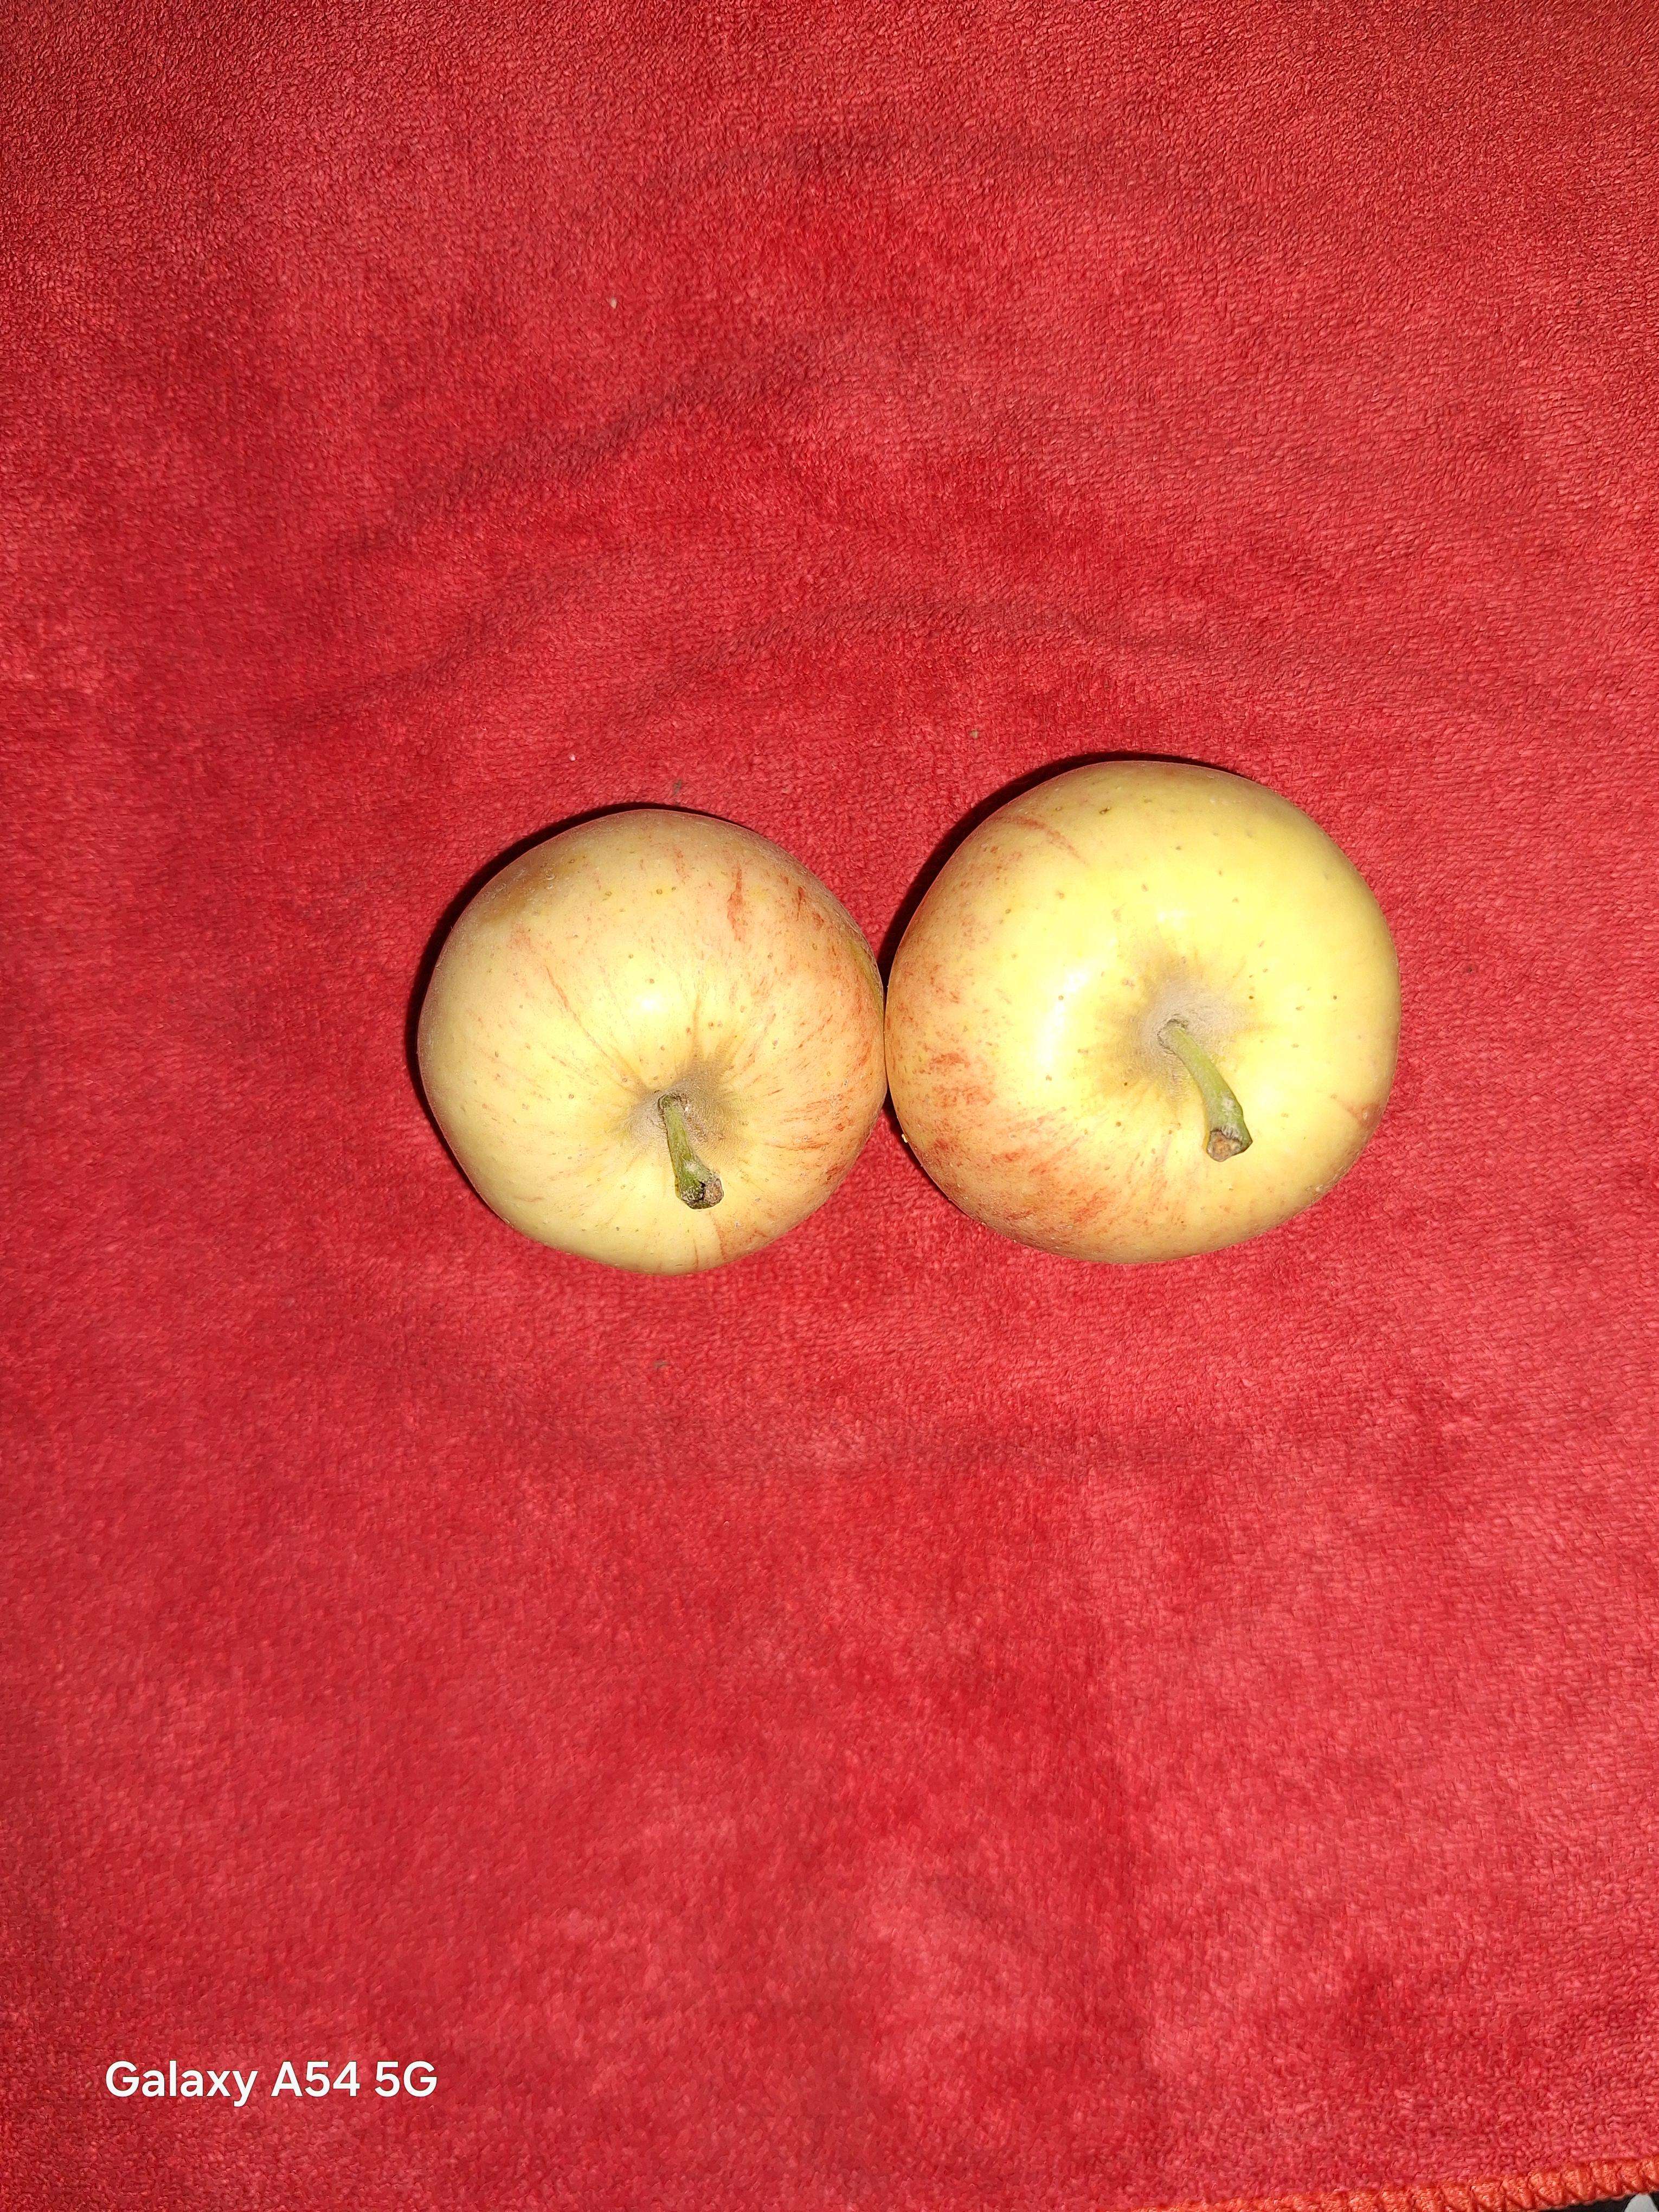non-mango: (873, 756, 1425, 1284), (385, 777, 890, 1270)
